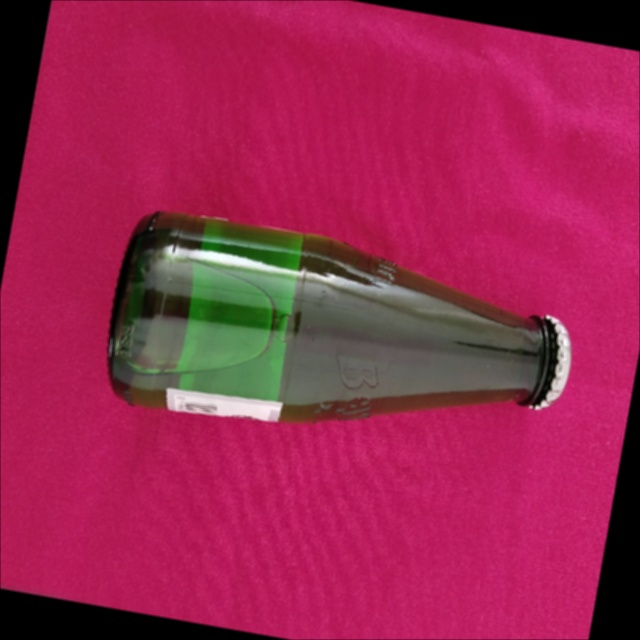beypazari_maden_suyu: (110, 214, 570, 424)
